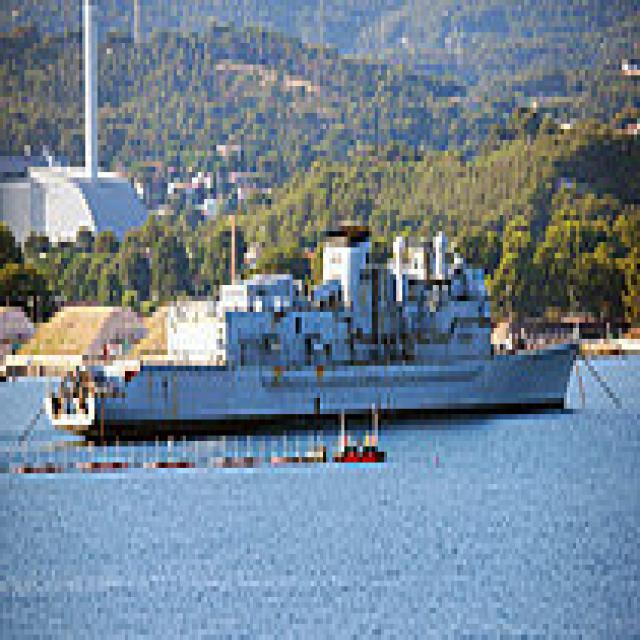Warship: (43, 210, 588, 441)
